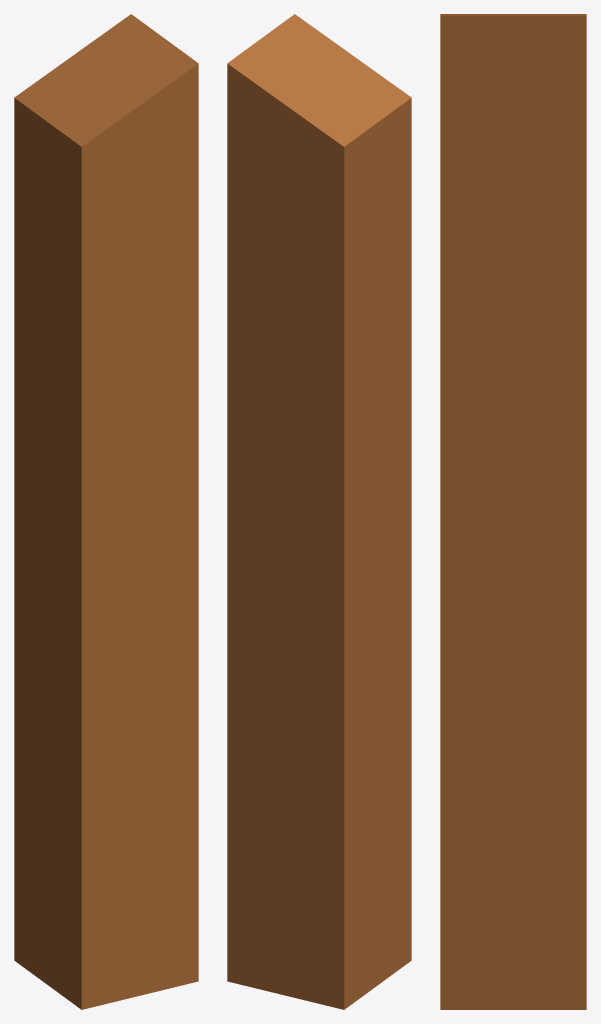
File: wood_post.fbx
3 views of the same model, side by side, from view 1: azimuth 30°, elevation 25°; view 2: azimuth 150°, elevation 25°; view 3: azimuth 270°, elevation 25° (orthographic). The views are drawn at different scales.
Visible parts, largest first — view 1: wood_post; view 2: wood_post; view 3: wood_post.
Part boxes in pixels (<box>): wood_post: <box>14,14,198,1009</box>; wood_post: <box>227,14,411,1009</box>; wood_post: <box>440,14,586,1009</box>.
Bounding box in the file's own units: 0.2 × 1.5 × 0.2.
